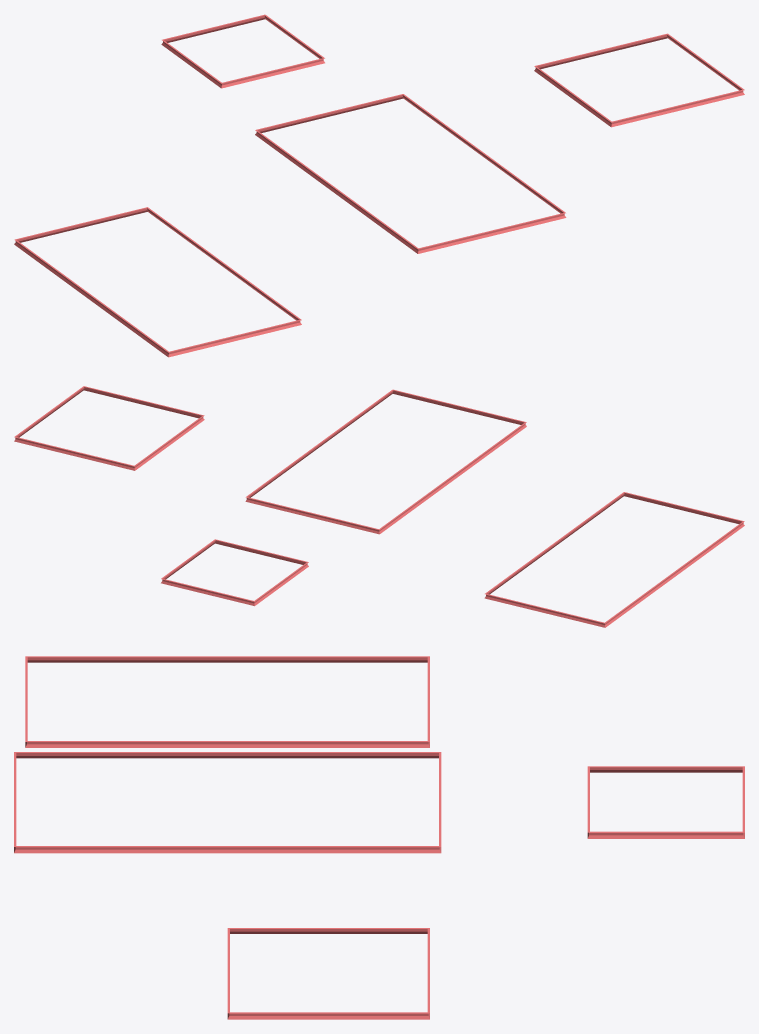
The model's file is building_trim_upper_lp.FBX.
The picture shows the model from 3 angles, top to bottom: view 1: azimuth 30°, elevation 25°; view 2: azimuth 150°, elevation 25°; view 3: azimuth 270°, elevation 25°; orthographic projection. The views are drawn at different scales.
Parts seen in each view (by area): view 1: level_building_trim_upper; view 2: level_building_trim_upper; view 3: level_building_trim_upper.
Boxes of the visible parts, x1,y1,x2,y2 form: level_building_trim_upper: (14, 14, 744, 357); level_building_trim_upper: (14, 386, 744, 627); level_building_trim_upper: (14, 656, 744, 1019).
Bounding box in the file's own units: 1732 × 1280 × 130.
